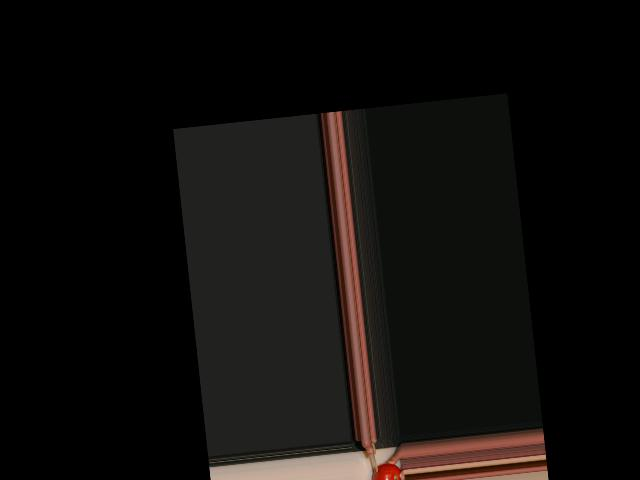tomato: (370, 462, 402, 480)
